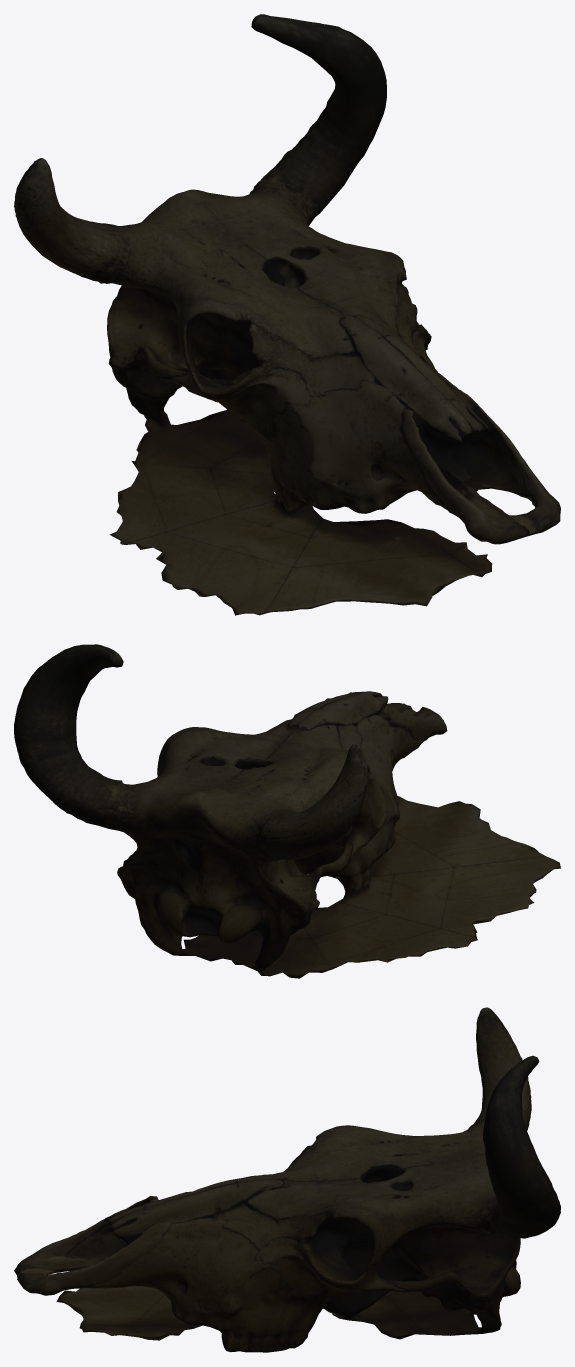
File: model_obj-revel.glb
3 views of the same model, one above another, from view 1: azimuth 30°, elevation 25°; view 2: azimuth 150°, elevation 25°; view 3: azimuth 270°, elevation 25° (orthographic). The views are drawn at different scales.
Visible parts, largest first — view 1: Node1; view 2: Node1; view 3: Node1.
Boxes of the visible parts, left/top/right/bottom form: Node1: left=14, top=14, right=560, bottom=615; Node1: left=14, top=644, right=560, bottom=978; Node1: left=14, top=1007, right=560, bottom=1352.
Size of the model in its own units: 0.3255 by 0.2804 by 0.4604.
Materials: 1 (1 with a texture image).
